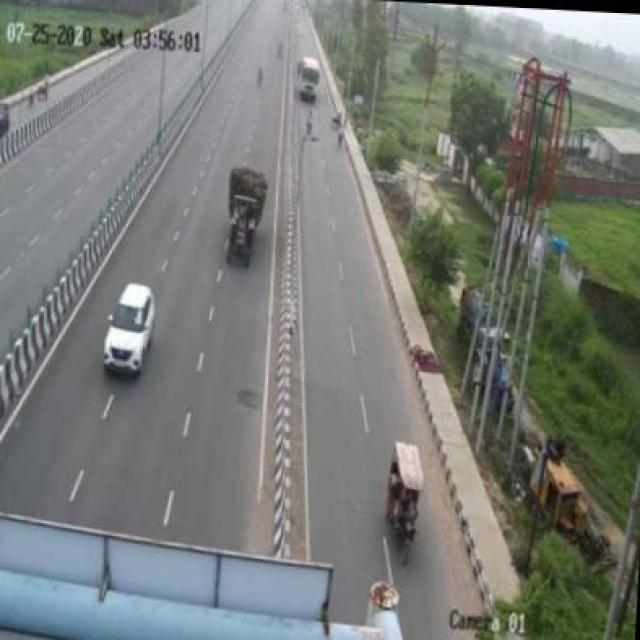car: (96, 276, 169, 377)
